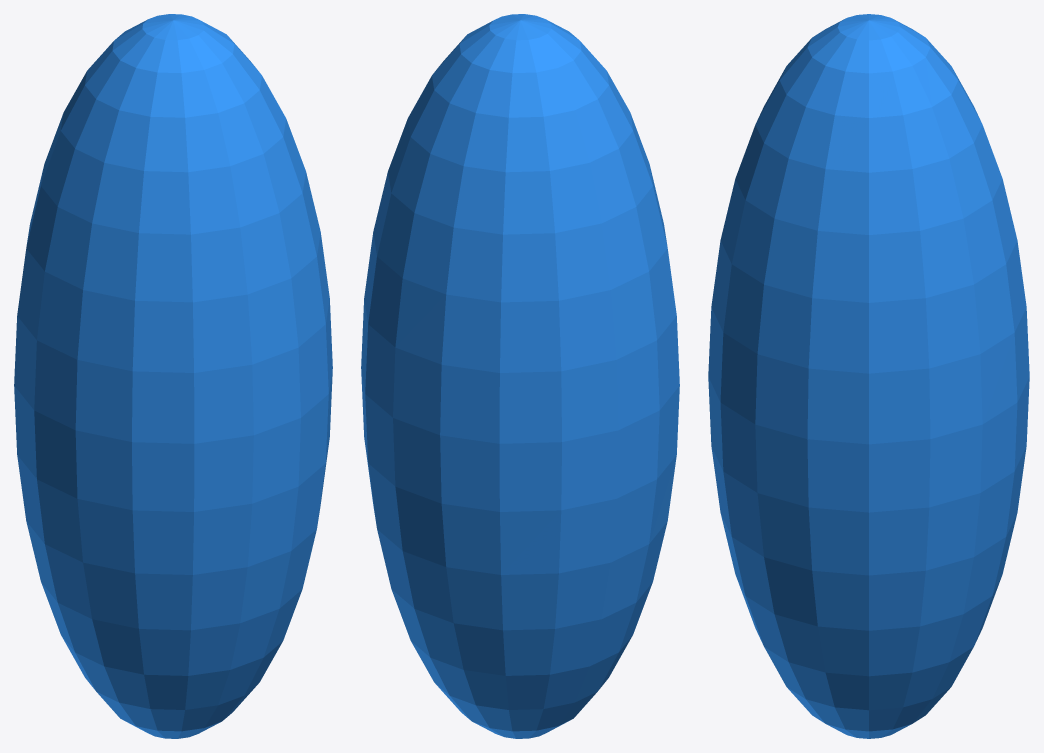
Rendered from Rocket.obj.
3 views of the same model, side by side, from view 1: azimuth 30°, elevation 25°; view 2: azimuth 150°, elevation 25°; view 3: azimuth 270°, elevation 25° (orthographic).
Visible parts, largest first — view 1: Rocket; view 2: Rocket; view 3: Rocket.
Part boxes in pixels (x1=…): Rocket: x1=14, y1=14, x2=332, y2=738; Rocket: x1=361, y1=14, x2=679, y2=738; Rocket: x1=708, y1=14, x2=1029, y2=738.
Bounding box in the file's own units: 0.9 × 2.2 × 0.9.
